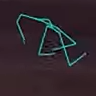hacks_2: (16, 13, 87, 68)
